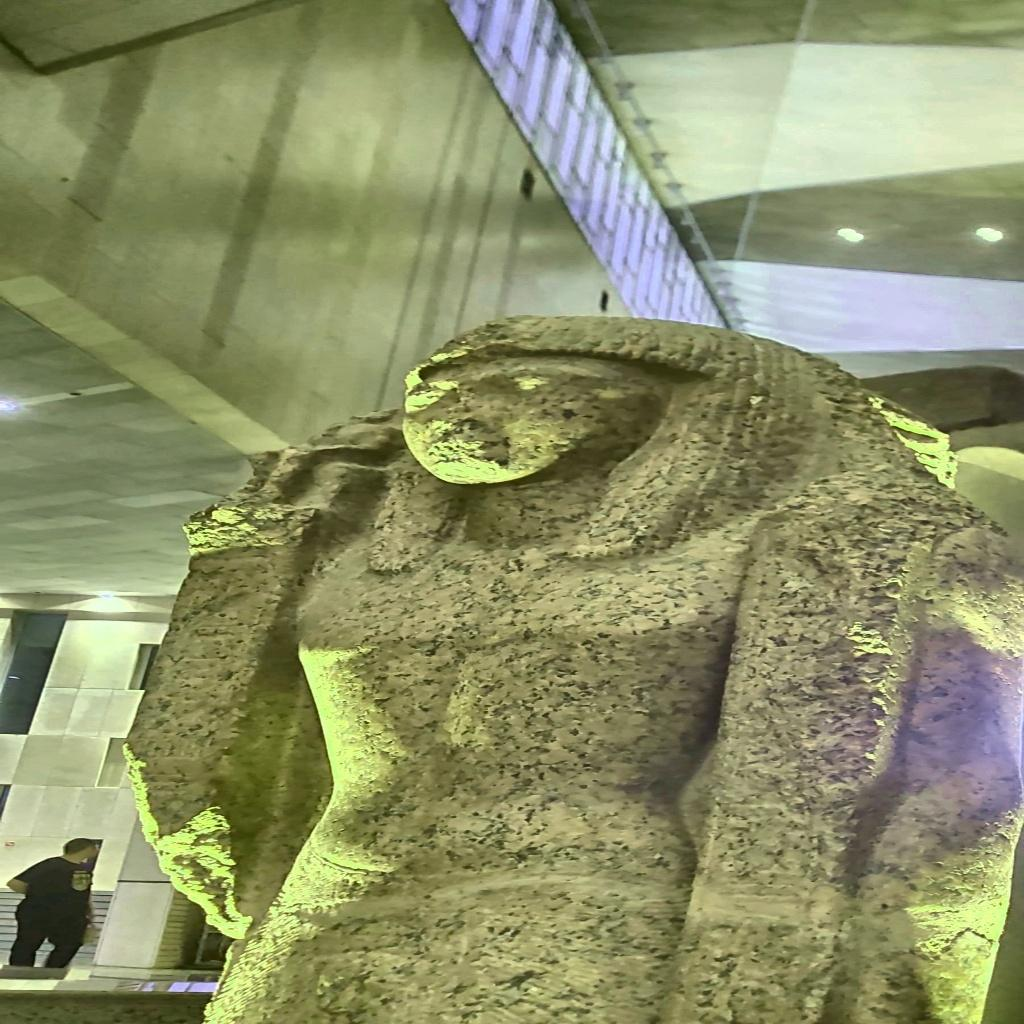Statue of Merenptah as standard Bearer: (154, 312, 1018, 1020)
